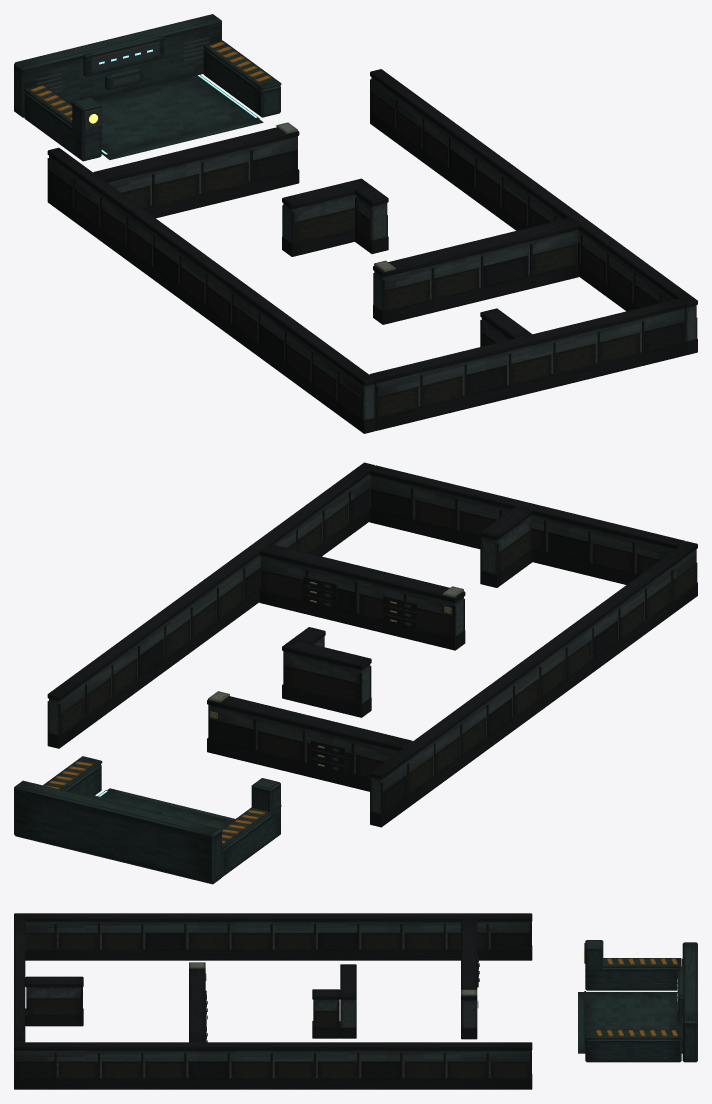
The model's file is ExcavationDepot_5x11.fbx.
The picture shows the model from 3 angles, top to bottom: view 1: azimuth 30°, elevation 25°; view 2: azimuth 150°, elevation 25°; view 3: azimuth 270°, elevation 25°; orthographic projection. The views are drawn at different scales.
Visible parts, largest first — view 1: THStage_ExtractionBay.008, THStage_WestBoundary.008, THStage_BackBoundary.008, THStage_EastBoundary.008, THStage_RearPartition.008, THStage_EntryPartition.008, THStage_CentralCrosswall.002, THStage_CentralReturn.002, THStage_RearRoomDivider.008; view 2: THStage_WestBoundary.008, THStage_EastBoundary.008, THStage_ExtractionBay.008, THStage_BackBoundary.008, THStage_RearPartition.008, THStage_EntryPartition.008, THStage_CentralCrosswall.002, THStage_RearRoomDivider.008, THStage_ArchiveDetails.008; view 3: THStage_EastBoundary.008, THStage_WestBoundary.008, THStage_ExtractionBay.008, THStage_RearRoomDivider.008, THStage_EntryPartition.008, THStage_BackBoundary.008, THStage_CentralReturn.002, THStage_CentralCrosswall.002, THStage_RearPartition.008, THStage_ArchiveDetails.008.
Part boxes in pixels (bbox=[...]): THStage_ExtractionBay.008: bbox=[14, 14, 281, 161]; THStage_WestBoundary.008: bbox=[47, 147, 375, 433]; THStage_BackBoundary.008: bbox=[369, 298, 685, 430]; THStage_EastBoundary.008: bbox=[370, 69, 697, 355]; THStage_RearPartition.008: bbox=[373, 218, 578, 324]; THStage_EntryPartition.008: bbox=[93, 127, 299, 218]; THStage_CentralCrosswall.002: bbox=[282, 178, 371, 256]; THStage_CentralReturn.002: bbox=[355, 186, 388, 253]; THStage_RearRoomDivider.008: bbox=[480, 308, 531, 346]; THStage_WestBoundary.008: bbox=[370, 541, 697, 827]; THStage_EastBoundary.008: bbox=[47, 462, 375, 748]; THStage_ExtractionBay.008: bbox=[14, 756, 281, 884]; THStage_BackBoundary.008: bbox=[369, 465, 685, 584]; THStage_RearPartition.008: bbox=[259, 543, 465, 650]; THStage_EntryPartition.008: bbox=[207, 696, 412, 791]; THStage_CentralCrosswall.002: bbox=[282, 639, 371, 717]; THStage_RearRoomDivider.008: bbox=[480, 506, 532, 587]; THStage_ArchiveDetails.008: bbox=[208, 576, 463, 773]; THStage_EastBoundary.008: bbox=[14, 1042, 532, 1089]; THStage_WestBoundary.008: bbox=[14, 913, 532, 960]; THStage_ExtractionBay.008: bbox=[578, 940, 697, 1062]; THStage_RearRoomDivider.008: bbox=[25, 976, 83, 1026]; THStage_EntryPartition.008: bbox=[461, 918, 477, 1039]; THStage_BackBoundary.008: bbox=[14, 918, 25, 1073]; THStage_CentralReturn.002: bbox=[312, 989, 340, 1038]; THStage_CentralCrosswall.002: bbox=[340, 964, 356, 1038]; THStage_RearPartition.008: bbox=[189, 968, 205, 1042]; THStage_ArchiveDetails.008: bbox=[189, 953, 479, 1042].
Bounding box in the file's own units: 5 × 0.7775 × 10.82.
4 materials, 1 textured.
